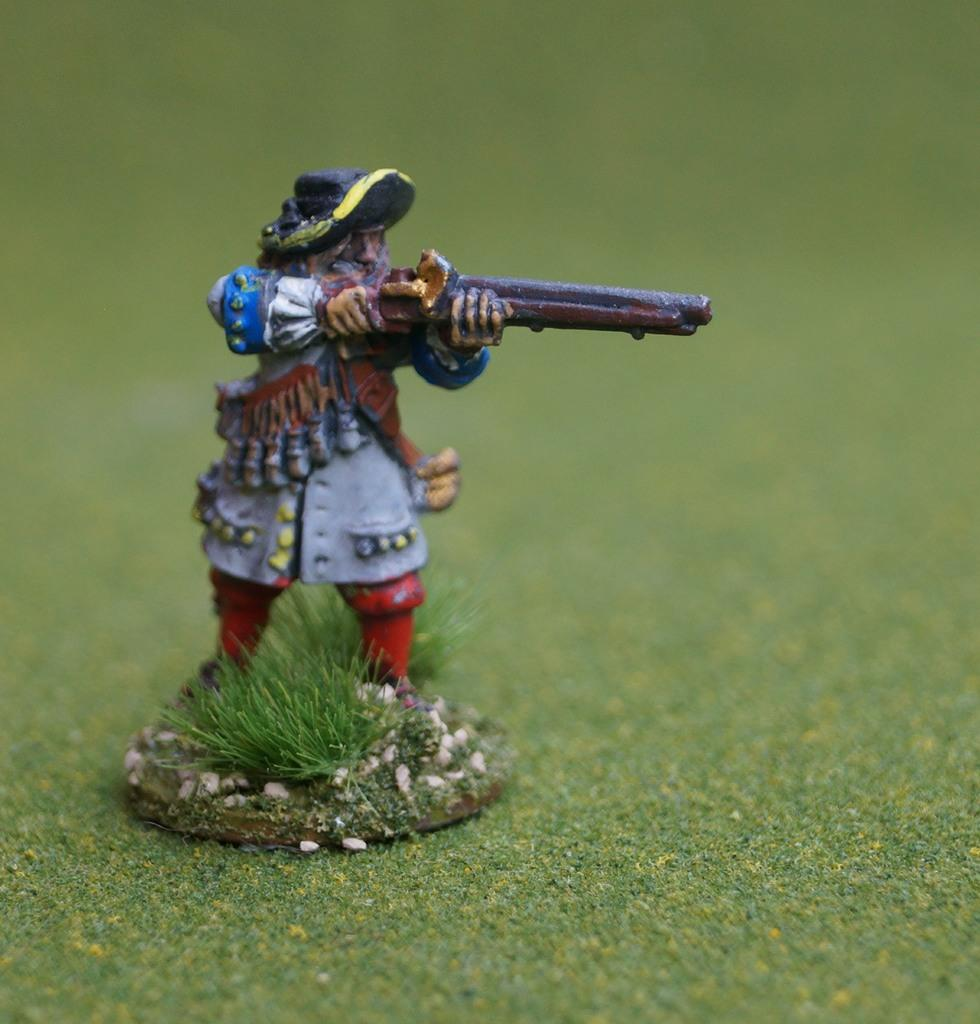Shotgun: (361, 269, 706, 330)
